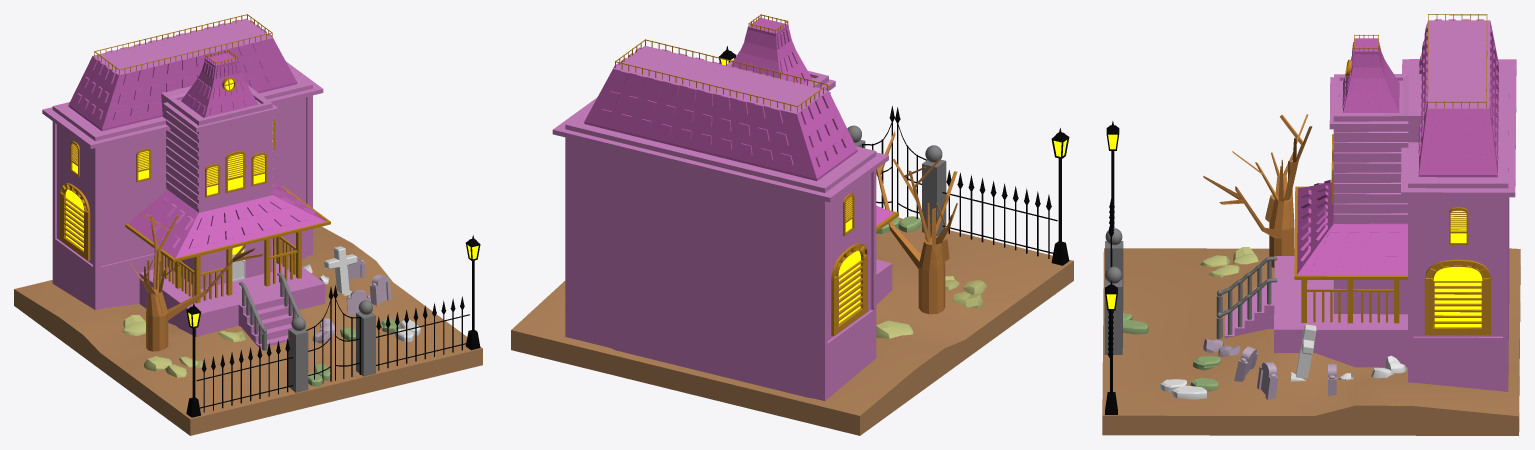
File: HauntedHouse.fbx
The picture shows the model from 3 angles, left to right: view 1: azimuth 30°, elevation 25°; view 2: azimuth 150°, elevation 25°; view 3: azimuth 270°, elevation 25°; orthographic projection. The views are drawn at different scales.
Visible parts, largest first — view 1: Box071, Box007, bigRoof, ShadeRoof, topRoof, Cylinder193, Box625, Box004, Box032, Cylinder048, Box072, Box295 (+4 smaller); view 2: Box071, Box007, bigRoof, Cylinder193, topRoof, Box625, Box004, Group044, Box063; view 3: Box071, Box007, ShadeRoof, bigRoof, Cylinder193, topRoof, Box624, Group043, Cylinder048, Box032, Box072, Box075 (+6 smaller).
Boxes of the visible parts, x1,y1,x2,y2 form: Box071: (42,18,325,347); Box007: (14,226,482,435); bigRoof: (68,20,297,131); ShadeRoof: (128,183,326,257); topRoof: (181,52,258,117); Cylinder193: (129,214,263,351); Box625: (60,183,90,260); Box004: (288,328,308,392); Box032: (356,312,375,376); Cylinder048: (239,272,305,350); Box072: (324,246,357,295); Box295: (173,220,330,262); Box071: (552,46,892,400); Box007: (511,218,1073,435); bigRoof: (584,47,857,180); Cylinder193: (872,130,957,314); topRoof: (731,18,812,84); Box625: (831,243,867,336); Box004: (922,159,946,235); Group044: (838,250,860,323); Box063: (876,320,913,338); Box071: (1224,20,1516,391); Box007: (1102,248,1520,435); ShadeRoof: (1297,180,1407,275); bigRoof: (1418,19,1498,177); Cylinder193: (1203,114,1312,268); topRoof: (1342,38,1399,112); Box624: (1424,259,1491,334); Group043: (1433,267,1482,327); Cylinder048: (1216,256,1277,339); Box032: (1104,279,1122,354); Box072: (1290,324,1316,381); Box075: (1257,362,1278,399).
Size of the model in its own units: 64.41 by 55.22 by 67.75.
